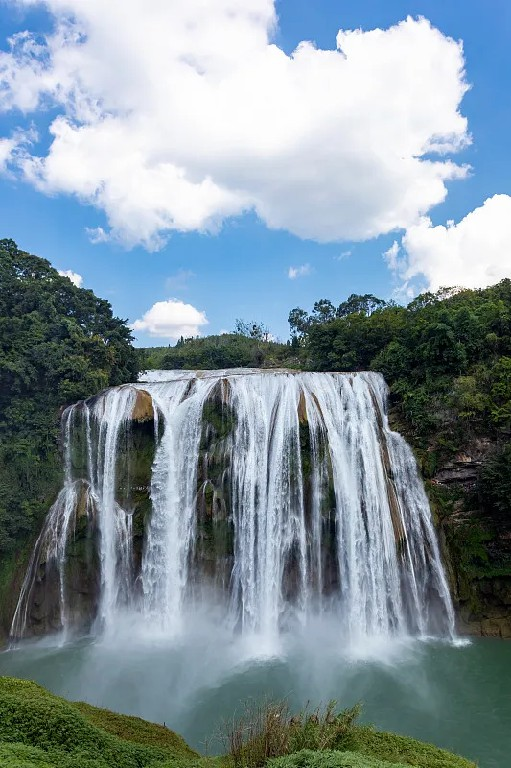Huangguoshu: (30, 368, 465, 644)
